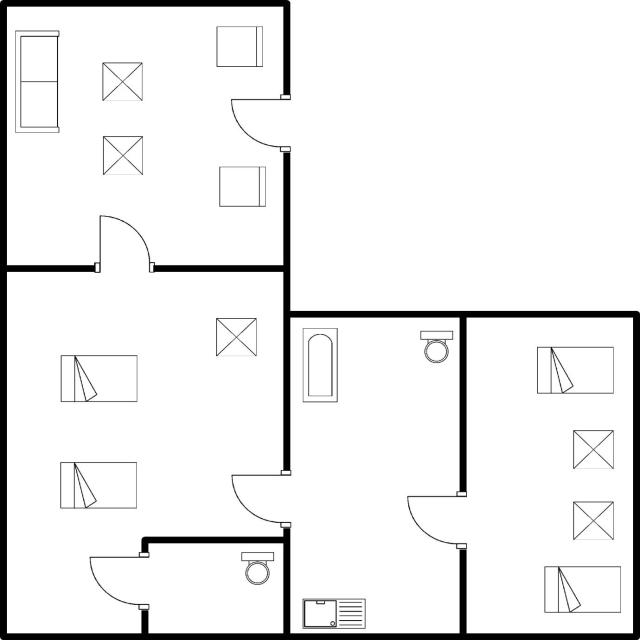bed: (54, 349, 141, 408), (55, 457, 142, 513)
coffee_table: (96, 58, 148, 105), (96, 132, 148, 179), (568, 495, 616, 545), (212, 314, 261, 361), (568, 426, 618, 471)
large_sink: (415, 326, 456, 368), (235, 548, 277, 584)
large_sofa: (11, 27, 64, 136)
sink: (298, 593, 373, 633)
small_sofa: (211, 21, 269, 74), (214, 160, 270, 213)
tub: (296, 323, 343, 407)
